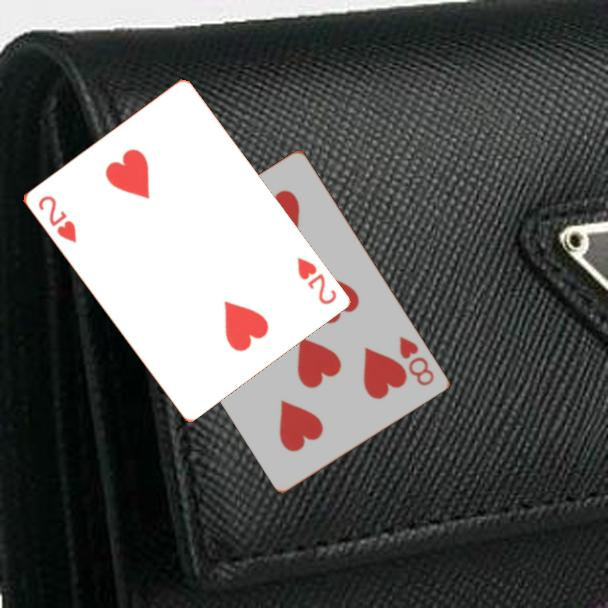h02: (293, 253, 339, 308), (34, 192, 79, 246)
h08: (396, 333, 438, 389)
